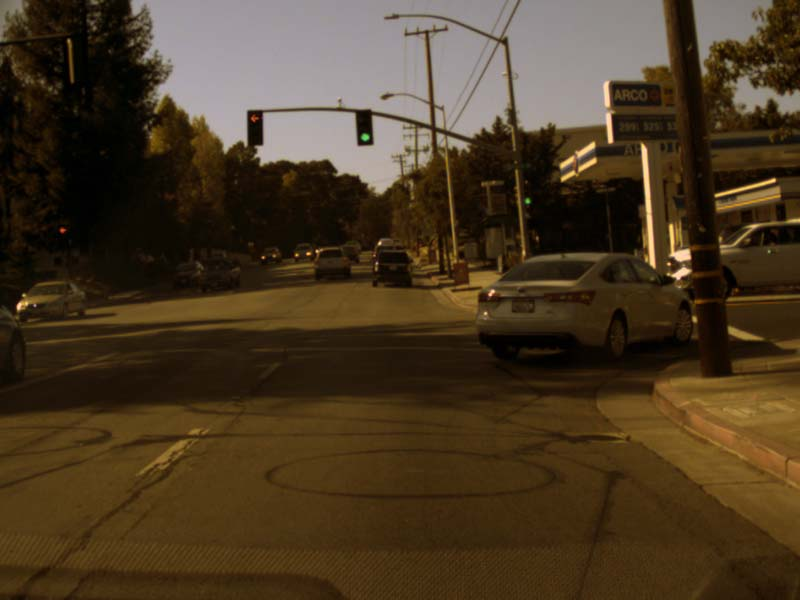Green: (356, 111, 371, 145), (523, 183, 530, 205)
Red: (246, 109, 262, 145), (58, 223, 68, 249)
